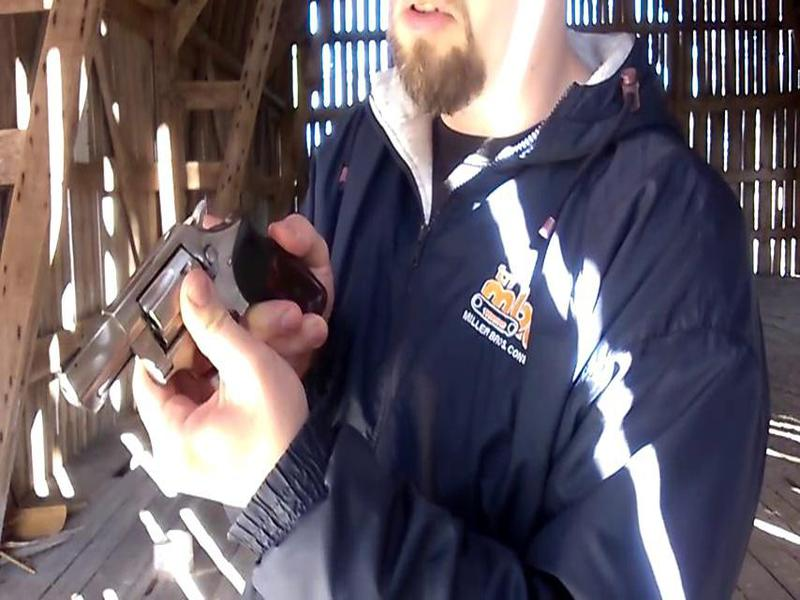Revolver: (53, 203, 343, 406)
